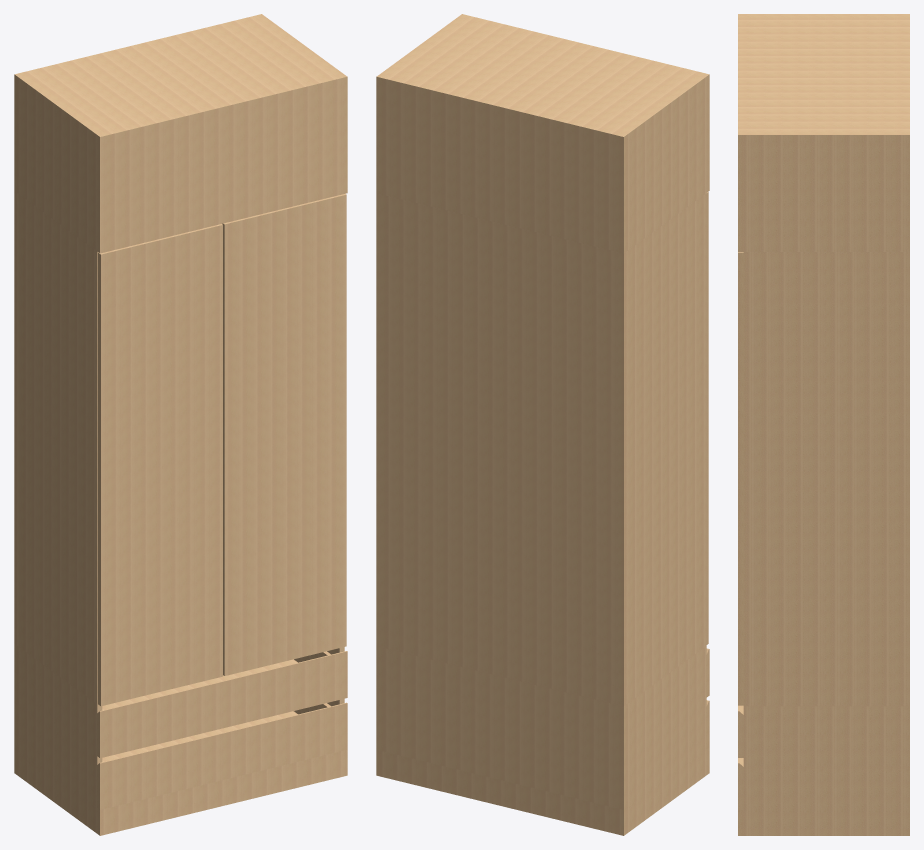
Rendered from W2D1-rfa.FBX.
3 renders of one model, left to right at view 1: azimuth 30°, elevation 25°; view 2: azimuth 150°, elevation 25°; view 3: azimuth 270°, elevation 25°, orthographic.
Visible parts, largest first — view 1: Casework-Sunray_HighCabinet_Door_Sgl_NoGroove Casework-Sunra (×2), Extrusion [2501456], CSW_Sunray_Cabinet_Carcass Cabinet_Carcass [2500746], CSW-Sunray_DrawerAssembly Top_Drawer [2501124], CSW-Sunray_DrawerAssembly Top_Drawer [2501119], CSW_Sunray_Cabinet_Base Cabinet_Base [2500788], Extrusion [2500874]; view 2: CSW_Sunray_Cabinet_Carcass Cabinet_Carcass [2500746], Extrusion [2501456], Extrusion [2500809], Extrusion [2500874], CSW_Sunray_Cabinet_Base Cabinet_Base [2500788], Casework-Sunray_HighCabinet_Door_Sgl_NoGroove Casework-Sunra, Extrusion [2500860]; view 3: CSW_Sunray_Cabinet_Carcass Cabinet_Carcass [2500746], Extrusion [2501456], Extrusion [2500860], CSW_Sunray_Cabinet_Base Cabinet_Base [2500788], Casework-Sunray_HighCabinet_Door_Sgl_NoGroove Casework-Sunra.
Boxes of the visible parts, <box> form: Casework-Sunray_HighCabinet_Door_Sgl_NoGroove Casework-Sunra (×2): <box>98,193,346,706</box>; Extrusion [2501456]: <box>14,14,347,253</box>; CSW_Sunray_Cabinet_Carcass Cabinet_Carcass [2500746]: <box>14,191,98,704</box>; CSW-Sunray_DrawerAssembly Top_Drawer [2501124]: <box>97,651,347,758</box>; CSW-Sunray_DrawerAssembly Top_Drawer [2501119]: <box>97,702,347,809</box>; CSW_Sunray_Cabinet_Base Cabinet_Base [2500788]: <box>14,747,347,835</box>; Extrusion [2500874]: <box>14,644,102,807</box>; CSW_Sunray_Cabinet_Carcass Cabinet_Carcass [2500746]: <box>376,193,706,706</box>; Extrusion [2501456]: <box>376,14,709,253</box>; Extrusion [2500809]: <box>381,647,618,808</box>; Extrusion [2500874]: <box>619,646,706,809</box>; CSW_Sunray_Cabinet_Base Cabinet_Base [2500788]: <box>376,747,709,835</box>; Casework-Sunray_HighCabinet_Door_Sgl_NoGroove Casework-Sunra: <box>706,192,708,644</box>; Extrusion [2500860]: <box>376,646,381,750</box>; CSW_Sunray_Cabinet_Carcass Cabinet_Carcass [2500746]: <box>743,252,909,706</box>; Extrusion [2501456]: <box>738,14,909,251</box>; Extrusion [2500860]: <box>743,706,909,809</box>; CSW_Sunray_Cabinet_Base Cabinet_Base [2500788]: <box>738,810,909,835</box>; Casework-Sunray_HighCabinet_Door_Sgl_NoGroove Casework-Sunra: <box>738,252,743,705</box>.
Size of the model in its own units: 39.37 by 106 by 23.62.
2 materials, 1 textured.
